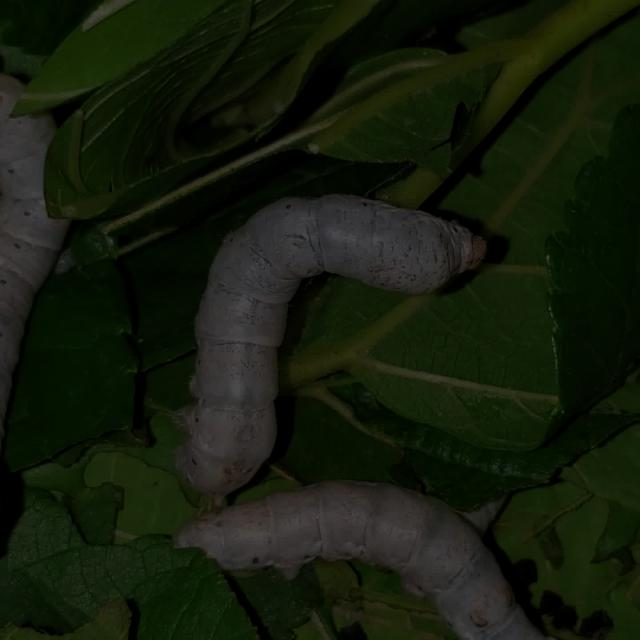Healthy: (164, 171, 489, 502)
